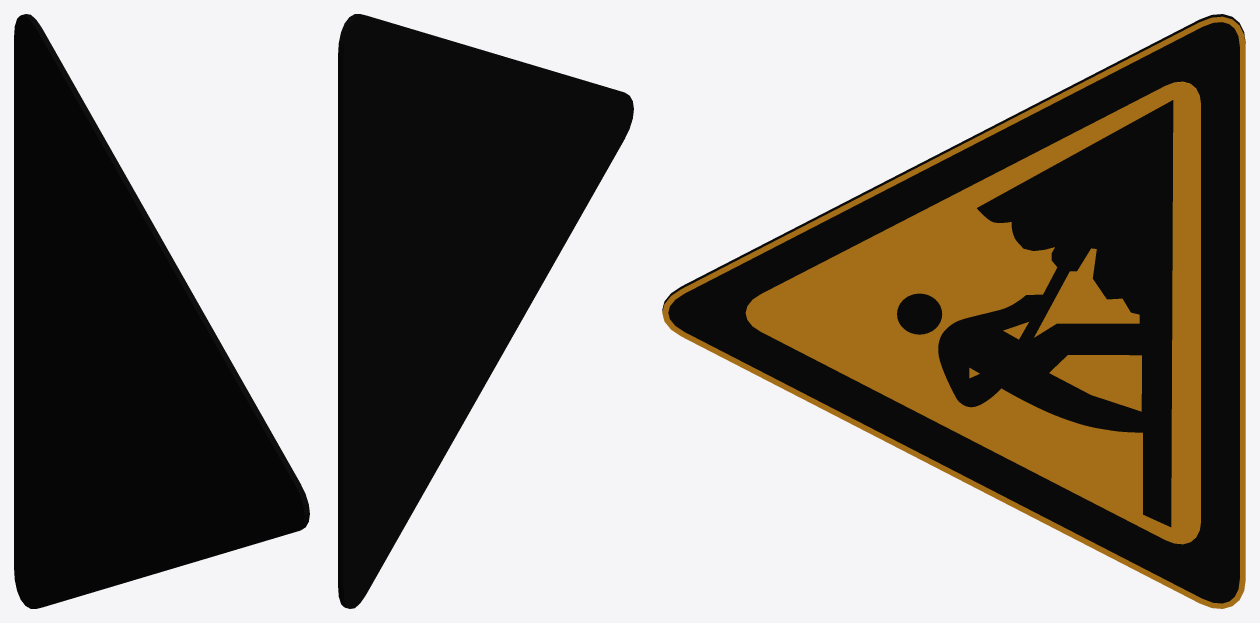
File: 施工标志.gltf
3 renders of one model, left to right at view 1: azimuth 30°, elevation 25°; view 2: azimuth 150°, elevation 25°; view 3: azimuth 270°, elevation 25°, orthographic.
Parts seen in each view (by area): view 1: 平面.001; view 2: 平面.001; view 3: 平面.001, 平面.003, 圆环.
Part boxes in pixels (x1,y1,x2,y2): 平面.001: (14, 14, 309, 608); 平面.001: (338, 14, 633, 608); 平面.001: (662, 14, 1245, 608); 平面.003: (745, 81, 1200, 544); 圆环: (897, 100, 1173, 526).
Size of the model in its own units: 0.012 by 0.9304 by 0.8307.
